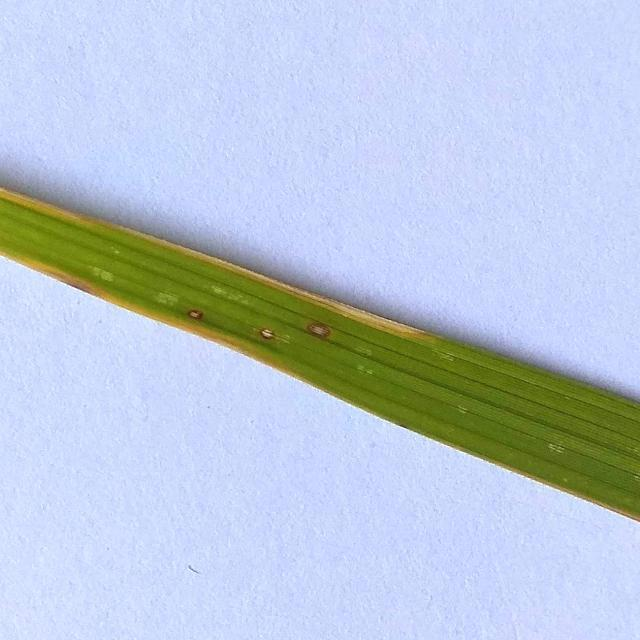Blast: (306, 319, 332, 337), (184, 306, 210, 321), (258, 327, 280, 339)
